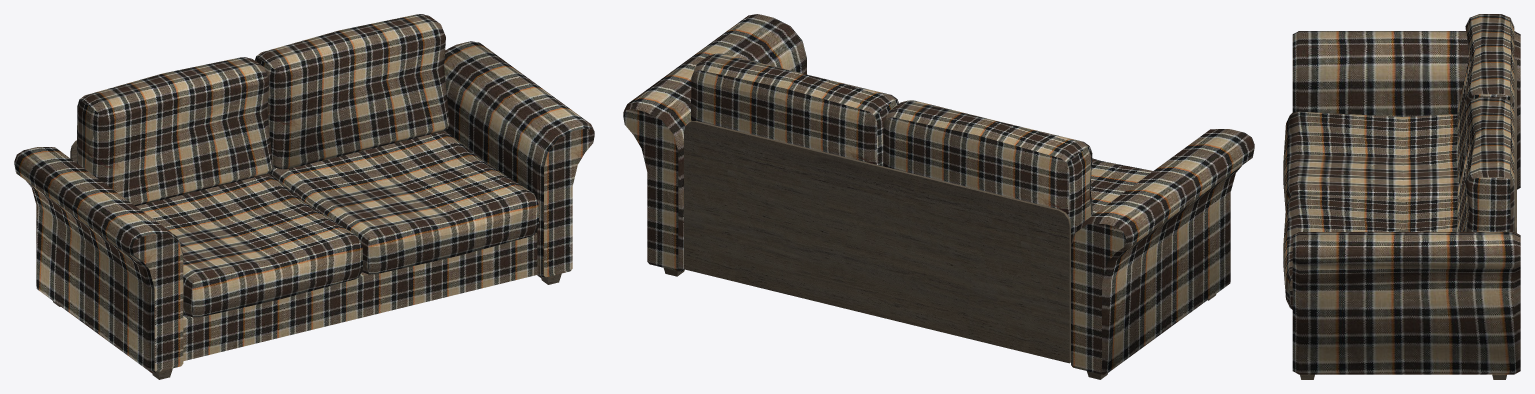
File: sofa2.glb
The picture shows the model from 3 angles, left to right: view 1: azimuth 30°, elevation 25°; view 2: azimuth 150°, elevation 25°; view 3: azimuth 270°, elevation 25°; orthographic projection. The views are drawn at different scales.
Visible parts, largest first — view 1: sofa1; view 2: sofa1; view 3: sofa1.
Part boxes in pixels (x1,y1,x2,y2): sofa1: (14,14,594,379); sofa1: (623,14,1254,379); sofa1: (1283,14,1520,379).
Size of the model in its own units: 2.26 by 0.9365 by 1.03.
Materials: 3 (3 with a texture image).
